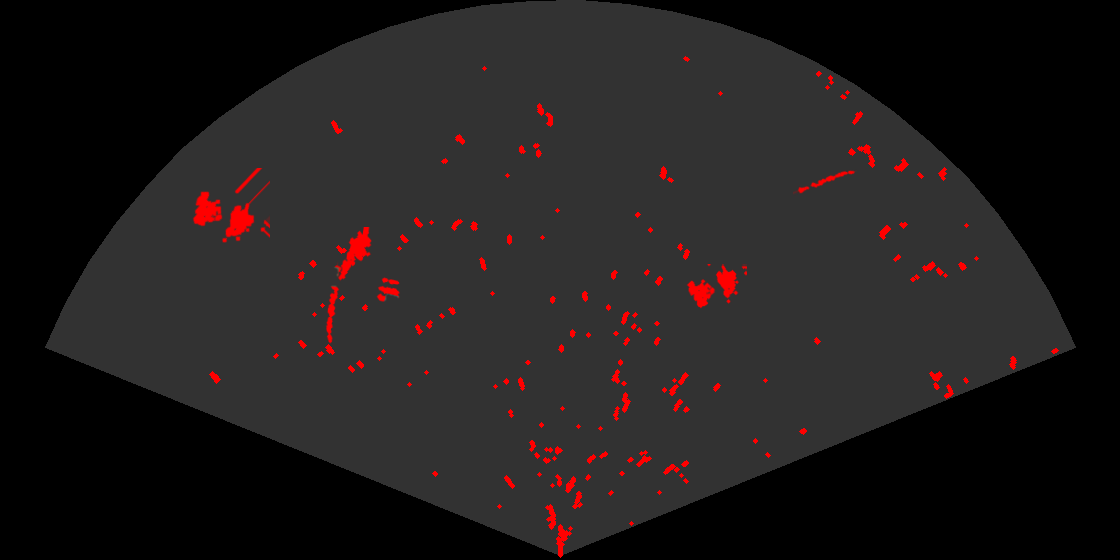ball: (375, 276, 401, 303)
cage: (191, 168, 270, 244), (685, 264, 747, 310)
chain: (793, 169, 857, 196), (324, 261, 343, 344)
frogman: (337, 227, 373, 283)
